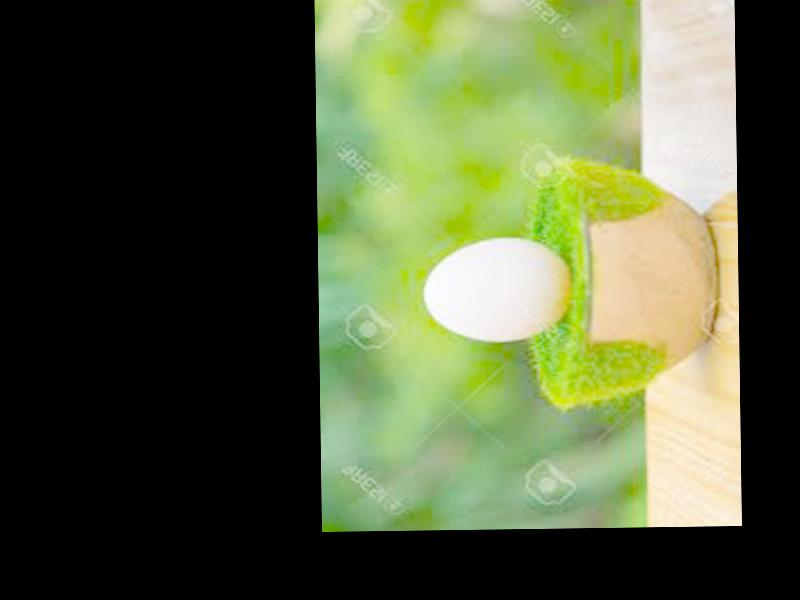Eggs: (426, 234, 572, 340)
